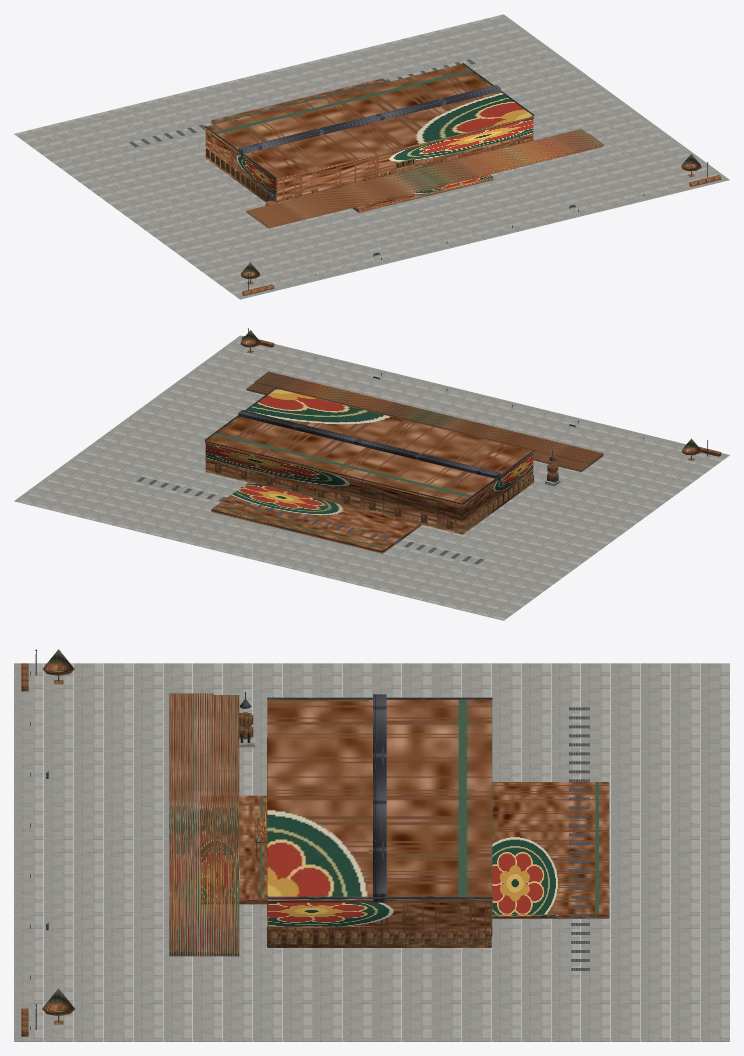
3 renders of one model, top to bottom at view 1: azimuth 30°, elevation 25°; view 2: azimuth 150°, elevation 25°; view 3: azimuth 270°, elevation 25°, orthographic. The views are drawn at different scales.
Visible parts, largest first — view 1: 11710_01_05551_006_01__plinth_ground_base, 11710_01_05551_006_02__mass_body_facade, 11710_01_05551_006_03__roof_metal_ornament, 11710_01_05551_006_06__landscape_greenery, 11710_01_05551_006_03__roof_deck_structure; view 2: 11710_01_05551_006_01__plinth_ground_base, 11710_01_05551_006_02__mass_body_facade, 11710_01_05551_006_03__roof_metal_ornament, 11710_01_05551_006_03__roof_deck_structure, 11710_01_05551_006_06__landscape_greenery; view 3: 11710_01_05551_006_01__plinth_ground_base, 11710_01_05551_006_02__mass_body_facade, 11710_01_05551_006_03__roof_metal_ornament, 11710_01_05551_006_03__roof_deck_structure, 11710_01_05551_006_06__landscape_greenery.
Boxes of the visible parts, box(x1,y1,x2,y2) form: 11710_01_05551_006_01__plinth_ground_base: box(14, 14, 729, 299); 11710_01_05551_006_02__mass_body_facade: box(205, 64, 603, 228); 11710_01_05551_006_03__roof_metal_ornament: box(204, 63, 534, 198); 11710_01_05551_006_06__landscape_greenery: box(241, 154, 721, 295); 11710_01_05551_006_03__roof_deck_structure: box(129, 59, 475, 147); 11710_01_05551_006_01__plinth_ground_base: box(14, 335, 729, 620); 11710_01_05551_006_02__mass_body_facade: box(205, 371, 603, 553); 11710_01_05551_006_03__roof_metal_ornament: box(204, 387, 556, 503); 11710_01_05551_006_03__roof_deck_structure: box(136, 477, 483, 564); 11710_01_05551_006_06__landscape_greenery: box(240, 330, 721, 460); 11710_01_05551_006_01__plinth_ground_base: box(14, 663, 729, 1041); 11710_01_05551_006_02__mass_body_facade: box(169, 693, 609, 956); 11710_01_05551_006_03__roof_metal_ornament: box(239, 692, 492, 902); 11710_01_05551_006_03__roof_deck_structure: box(569, 707, 589, 970); 11710_01_05551_006_06__landscape_greenery: box(21, 649, 74, 1036).
Bounding box in the file's own units: 160 × 11.6 × 128.
7 materials, 7 textured.
